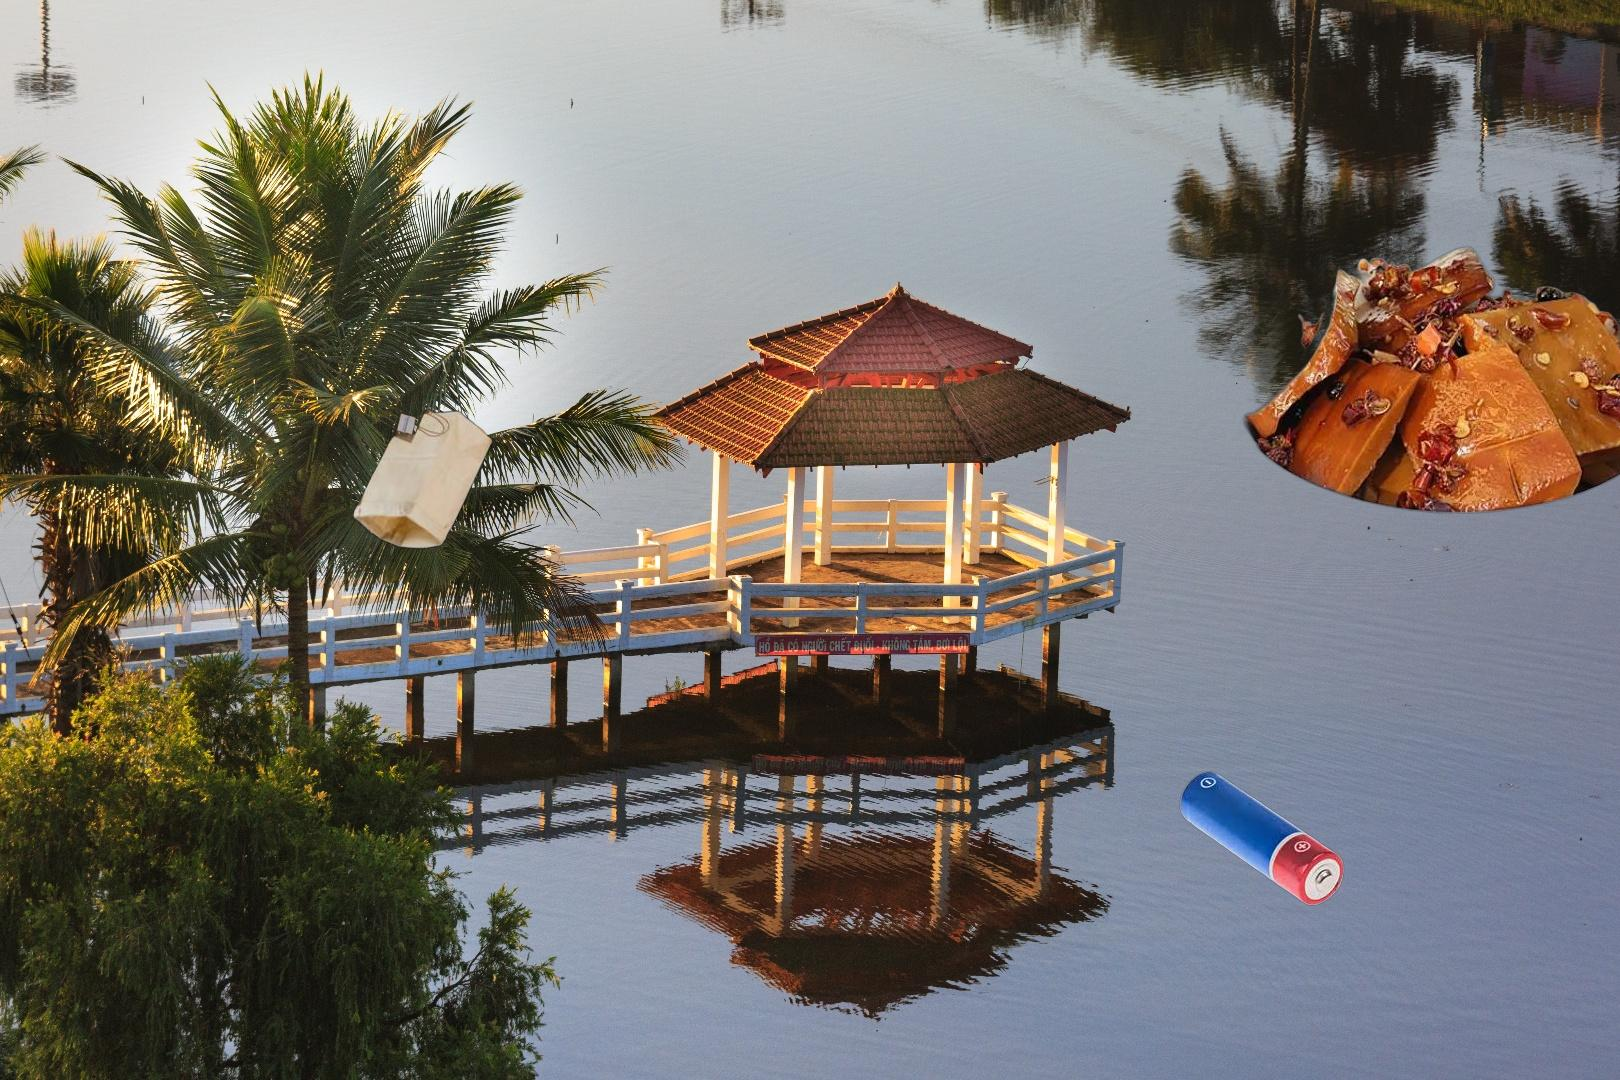battery: (1176, 769, 1348, 908)
biological: (1239, 245, 1620, 516)
paper-bag: (347, 385, 495, 552)
